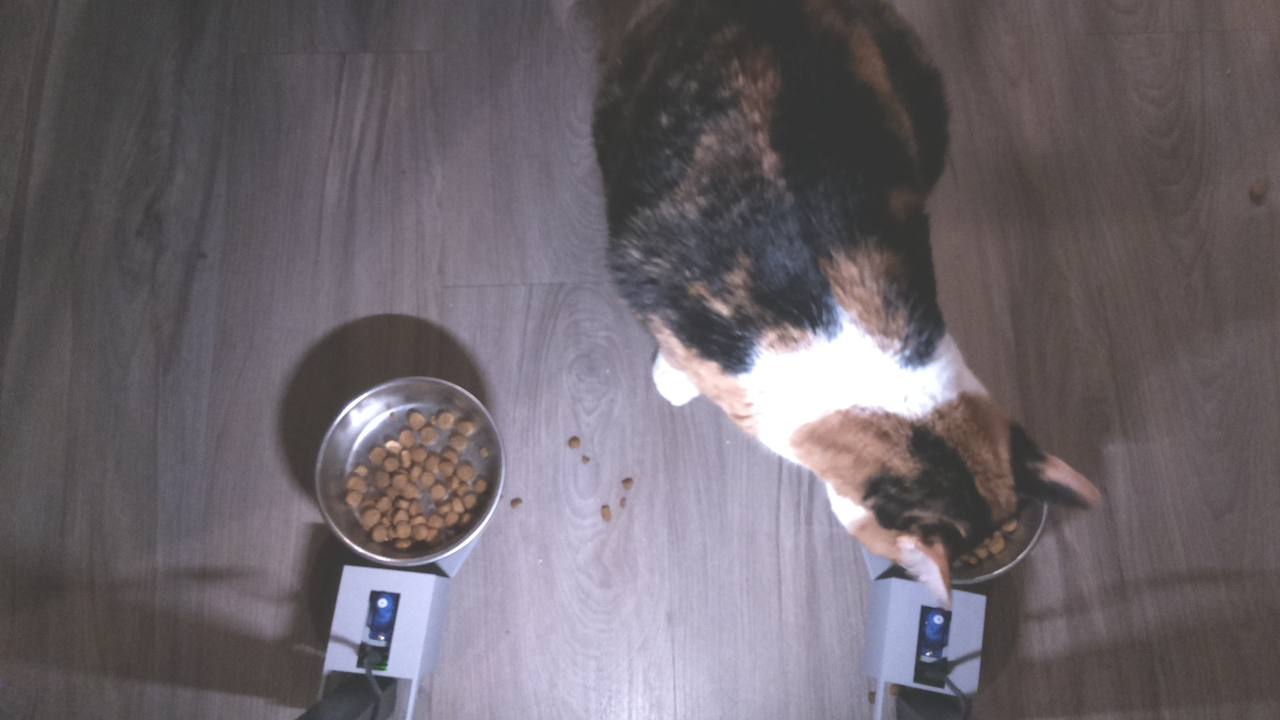bella_eating: (773, 327, 1122, 597)
open_bowl: (312, 372, 507, 569)
